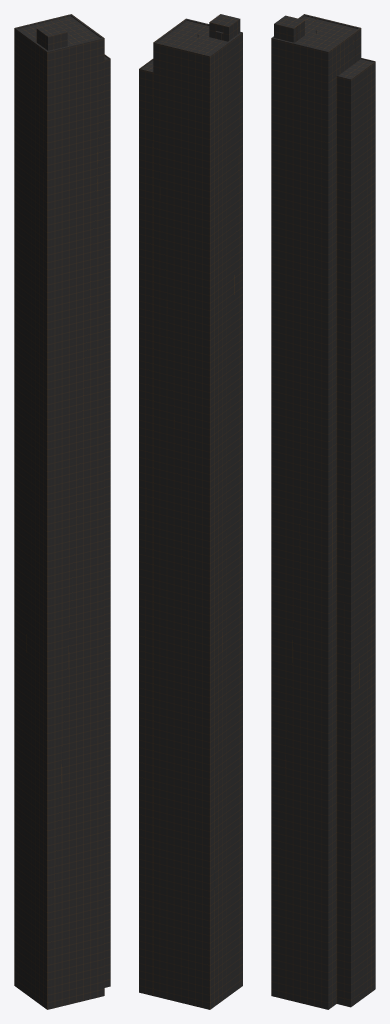
Rendered from sp_physicstest.obj.
3 renders of one model, left to right at view 1: azimuth 30°, elevation 25°; view 2: azimuth 150°, elevation 25°; view 3: azimuth 330°, elevation 25°, orthographic.
Visible parts, largest first — view 1: mesh_7, mesh_336; view 2: mesh_7, mesh_336; view 3: mesh_7, mesh_336.
Part boxes in pixels (x1=…): mesh_7: x1=14, y1=14, x2=110, y2=1009; mesh_336: x1=36, y1=24, x2=67, y2=50; mesh_7: x1=139, y1=18, x2=242, y2=1009; mesh_336: x1=209, y1=14, x2=240, y2=41; mesh_7: x1=271, y1=14, x2=375, y2=1009; mesh_336: x1=274, y1=15, x2=304, y2=42.
Size of what is drawn, in the model's own units: 1280 by 16648 by 1024.
Materials: 1 (1 with a texture image).
